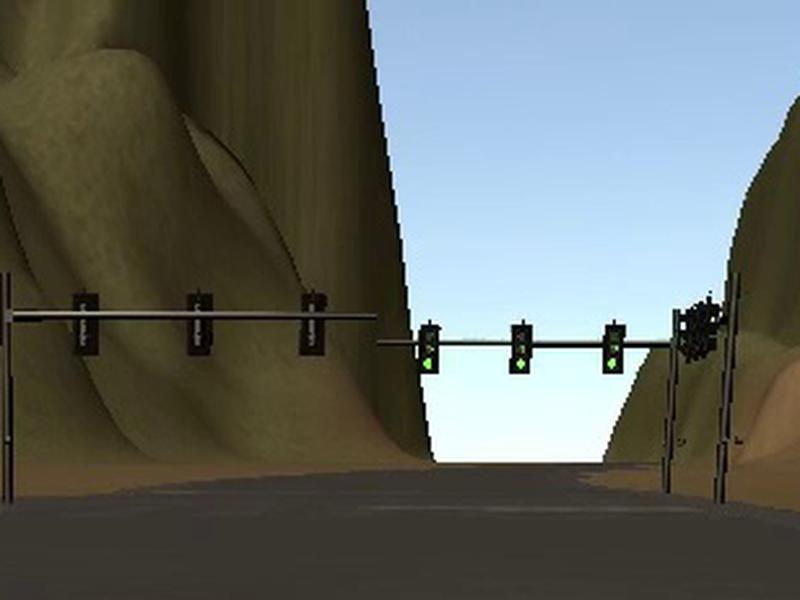Green: (509, 323, 534, 373), (602, 324, 627, 374), (416, 324, 440, 374)
